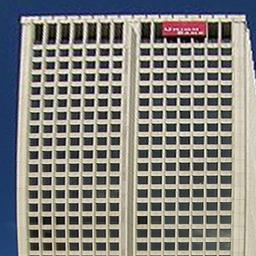building: (17, 15, 244, 256)
